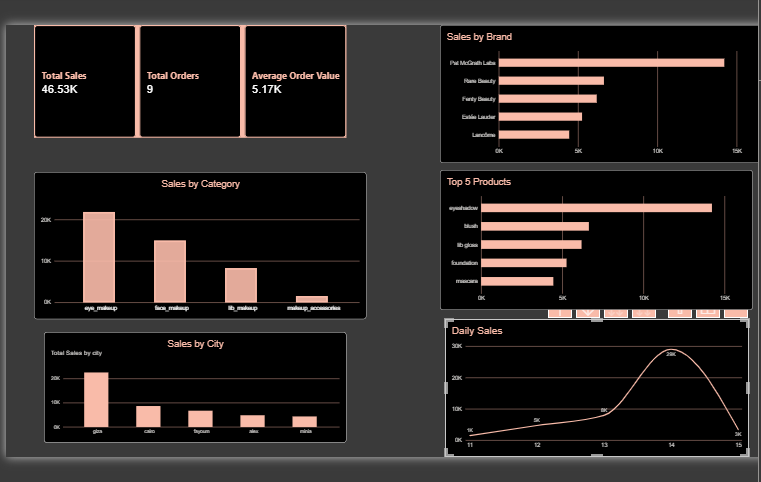

This screenshot's page, from the dashboard's own definition file:
{"tool":"powerbi","page":{"name":"Page 1","canvas":[1920,1080],"ordinal":0},"visuals":[{"type":"cardVisual","fields":{"Data":["order_items.Total Sales","orders.Total Orders","orders.Average Order Value"]},"box":[40,80,805,282.5],"z":0},{"type":"clusteredColumnChart","title":"Sales by Category","fields":{"Category":["categories.category_name"],"Y":["order_items.Total Sales"]},"box":[0,367.5,990,367.5],"z":1000},{"type":"lineChart","title":"Daily Sales","fields":{"Category":["orders.order_date.Variation.Date Hierarchy.Year","orders.order_date.Variation.Date Hierarchy.Quarter","orders.order_date.Variation.Date Hierarchy.Month","orders.order_date.Variation.Date Hierarchy.Day"],"Y":["order_items.Total Sales"]},"box":[1020,735,792.5,345],"z":2000},{"type":"clusteredBarChart","title":"Top 5 Products","fields":{"Category":["products.product_name"],"Y":["order_items.Total Sales"]},"box":[1010,362.5,802.5,350],"z":3000},{"type":"clusteredColumnChart","title":"Sales by City","fields":{"Category":["customers.city"],"Y":["order_items.Total Sales"]},"box":[47.5,735,895,345],"z":4000},{"type":"clusteredBarChart","title":"Sales by Brand","fields":{"Category":["brands.brand_name"],"Y":["order_items.Total Sales"]},"box":[942.5,0,907.5,345],"z":5000},{"type":"textbox","box":[75,0,707.5,62.5],"z":5001}]}

Visuals, with their boxes on the page's 1920x1080 design canvas (x1, y1, x2, y2). These are canvas units, not pixel positions in the 761x482 screenshot, which may show the page scaled, cropped or inside an application window:
cardVisual - order_items.Total Sales x orders.Total Orders: (40, 80, 845, 362)
"Sales by Category" clusteredColumnChart: (0, 368, 990, 735)
"Daily Sales" lineChart: (1020, 735, 1812, 1080)
"Top 5 Products" clusteredBarChart: (1010, 362, 1812, 712)
"Sales by City" clusteredColumnChart: (48, 735, 942, 1080)
"Sales by Brand" clusteredBarChart: (942, 0, 1850, 345)
textbox: (75, 0, 782, 62)
